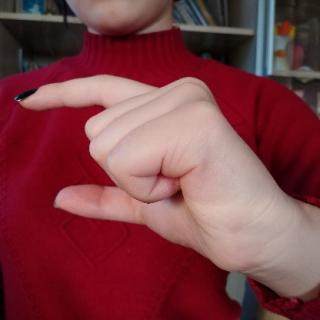DELL: (9, 70, 312, 295)
